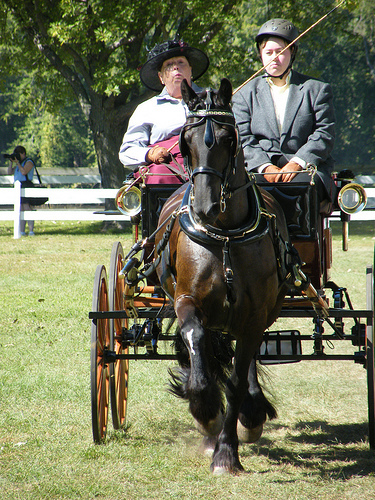horse: (162, 71, 283, 478)
